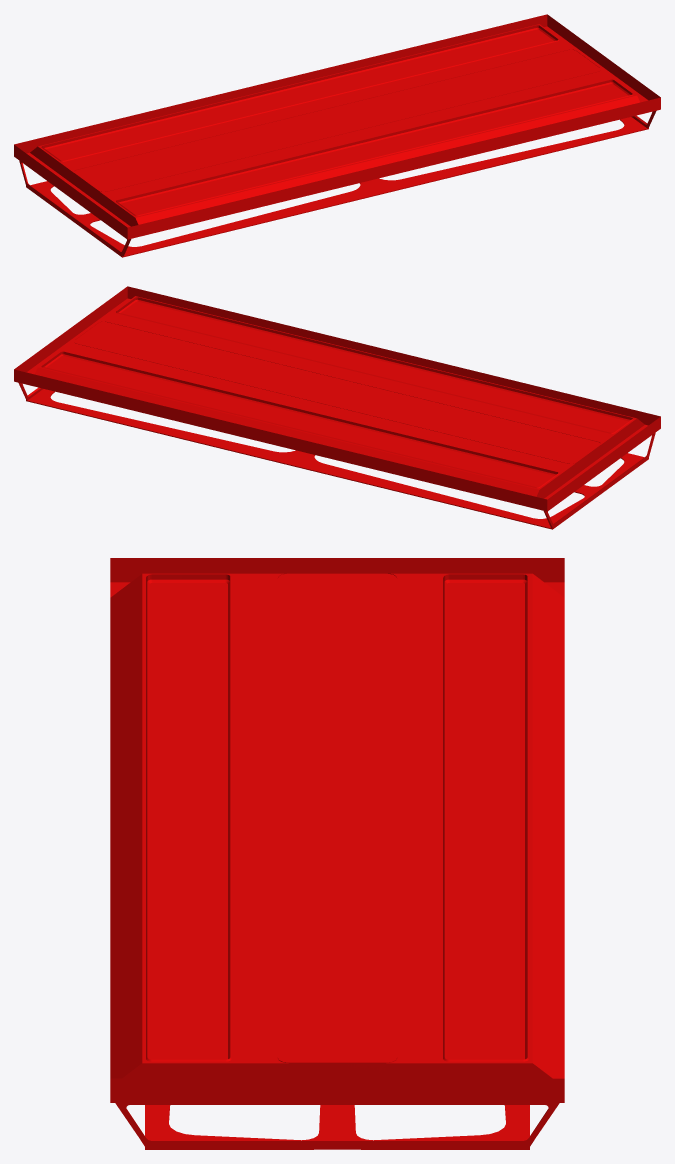
The model's file is Ceiling_10.fbx.
3 renders of one model, top to bottom at view 1: azimuth 30°, elevation 25°; view 2: azimuth 150°, elevation 25°; view 3: azimuth 270°, elevation 25°, orthographic. The views are drawn at different scales.
Parts seen in each view (by area): view 1: polySurface2321; view 2: polySurface2321; view 3: polySurface2321.
Part boxes in pixels (bbox=[...]): polySurface2321: bbox=[14, 14, 660, 257]; polySurface2321: bbox=[14, 286, 660, 529]; polySurface2321: bbox=[110, 558, 564, 1149].
Size of the model in its own units: 604 by 41.04 by 223.
